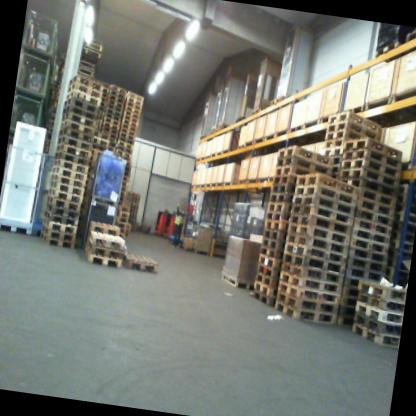pallet: (284, 218, 350, 245), (279, 258, 345, 285), (293, 181, 357, 208), (325, 107, 384, 136), (289, 200, 353, 226), (342, 134, 403, 161), (277, 143, 335, 171), (296, 173, 360, 197), (337, 154, 401, 178), (272, 291, 338, 314), (273, 302, 338, 325), (277, 281, 339, 305), (337, 162, 399, 186), (338, 173, 397, 198), (281, 250, 345, 273), (325, 117, 380, 143), (350, 322, 400, 349), (351, 310, 402, 336), (288, 212, 351, 233), (284, 230, 347, 251), (283, 241, 346, 262), (277, 271, 340, 292), (291, 190, 355, 210), (276, 152, 334, 174), (356, 279, 406, 304), (343, 146, 402, 167), (356, 289, 405, 314), (354, 301, 402, 325), (80, 244, 123, 268), (86, 228, 127, 252), (67, 72, 104, 97), (122, 250, 158, 275), (347, 234, 388, 255), (59, 101, 99, 122), (354, 195, 395, 215), (63, 86, 102, 107), (349, 217, 392, 236), (37, 231, 77, 251), (39, 215, 77, 236), (219, 271, 253, 293), (356, 185, 397, 203), (58, 117, 96, 136), (52, 148, 90, 167), (44, 193, 79, 213), (61, 95, 102, 112), (373, 38, 402, 62), (87, 218, 125, 236), (347, 246, 387, 263), (46, 188, 83, 206), (40, 223, 75, 242), (58, 111, 97, 128), (49, 165, 88, 182), (354, 206, 393, 223), (271, 170, 304, 190), (344, 256, 385, 272), (55, 134, 93, 151), (86, 242, 126, 258), (345, 266, 385, 282), (47, 179, 84, 196), (42, 209, 78, 226), (54, 143, 92, 159), (273, 161, 306, 179), (66, 81, 103, 97), (350, 227, 391, 241), (44, 203, 78, 219), (249, 278, 276, 297), (58, 126, 94, 140), (50, 158, 88, 171), (50, 175, 88, 187), (324, 135, 349, 153), (268, 189, 296, 205), (271, 180, 297, 197), (248, 289, 274, 306), (253, 271, 279, 287), (264, 208, 290, 223), (325, 128, 349, 144), (255, 263, 279, 278), (399, 27, 416, 48), (337, 306, 358, 323), (266, 200, 291, 214), (261, 220, 288, 232), (267, 92, 286, 109), (260, 236, 283, 250), (258, 253, 282, 266), (261, 228, 286, 240), (342, 276, 365, 289), (341, 286, 363, 299), (324, 145, 345, 158), (340, 296, 360, 309), (235, 113, 250, 128), (260, 247, 282, 257), (251, 106, 264, 119), (214, 124, 228, 135), (329, 156, 343, 166), (210, 128, 218, 138)
pallet_truck: (160, 204, 188, 247), (149, 205, 169, 240)
stillage: (0, 141, 46, 238), (29, 152, 57, 242), (8, 91, 54, 144), (14, 50, 56, 105), (20, 9, 63, 62)
